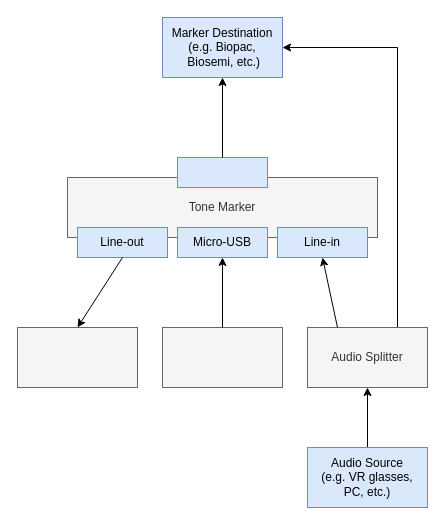
The diagram is 445 pixels wide and 525 high, and some of its shapes have lost their labels. Each missing label, with the box of its shape:
Female DB25: (176, 156, 268, 188)
Headphones: (16, 326, 138, 388)
USB Power Source: (162, 326, 282, 388)
